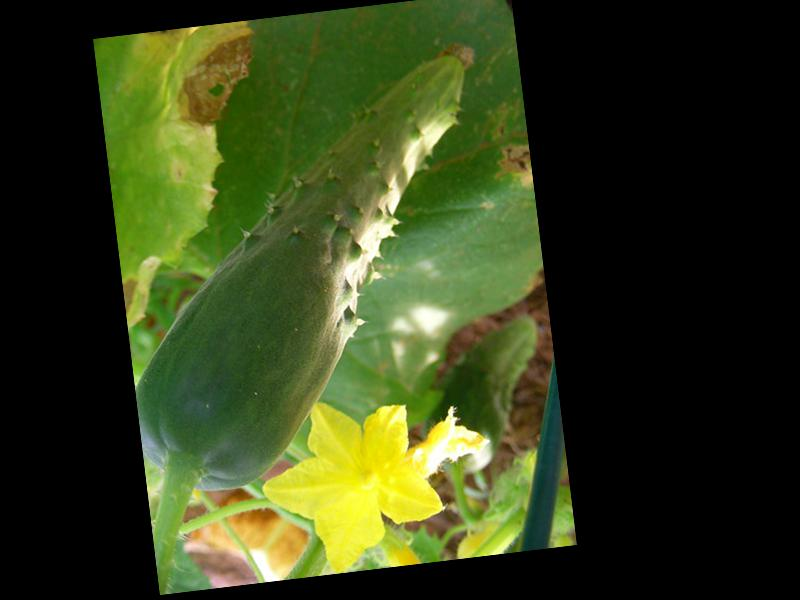Cucumber: (100, 42, 523, 498)
